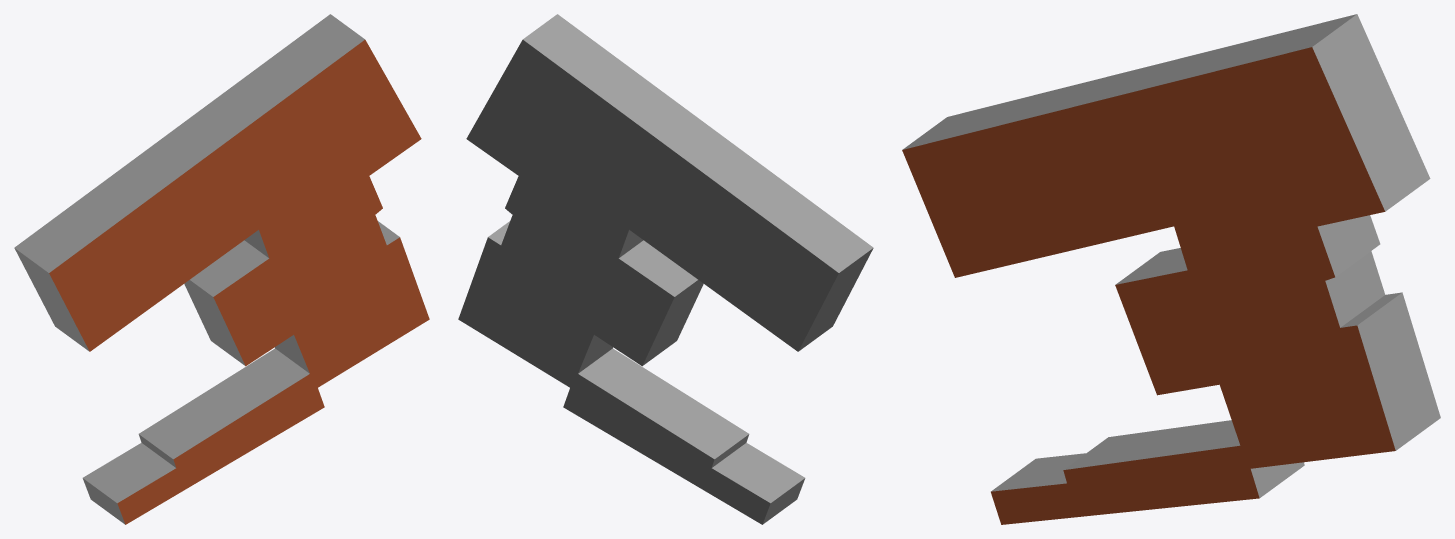
Rendered from construction_4783_assumed_A_Casa_h6m.obj.
The picture shows the model from 3 angles, left to right: view 1: azimuth 30°, elevation 25°; view 2: azimuth 150°, elevation 25°; view 3: azimuth 330°, elevation 25°; orthographic projection. The views are drawn at different scales.
Visible parts, largest first — view 1: construction_4783_assumed_A_Casa; view 2: construction_4783_assumed_A_Casa; view 3: construction_4783_assumed_A_Casa.
Part boxes in pixels (x1,y1,x2,y2): construction_4783_assumed_A_Casa: (14, 14, 429, 524); construction_4783_assumed_A_Casa: (458, 14, 873, 524); construction_4783_assumed_A_Casa: (902, 14, 1440, 524).
Bounding box in the file's own units: 37.88 × 40.6 × 6.
